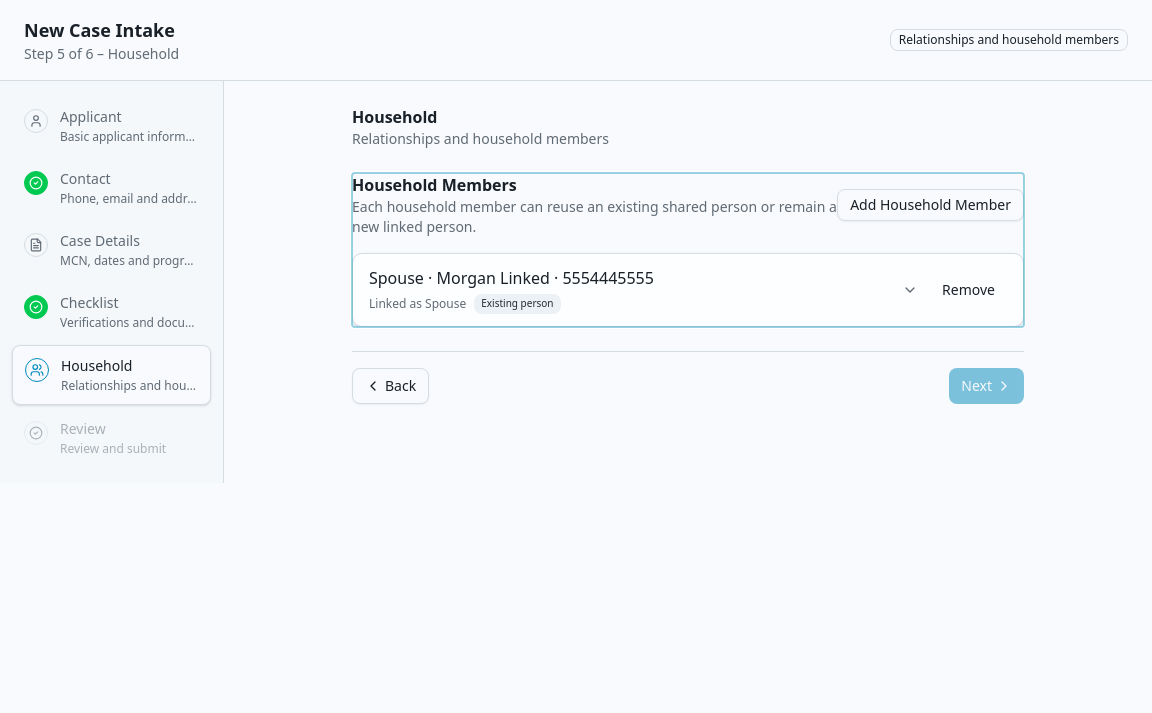
it: IntakeFormView › Household step › shows shared-person helper text for existing household links
The width and height of the screenshot is (1152, 713).
Click the button that starts with "Spouse · Morgan Linked · 5554445555" at (644, 290), box x1=369 y1=266 x2=918 y2=314
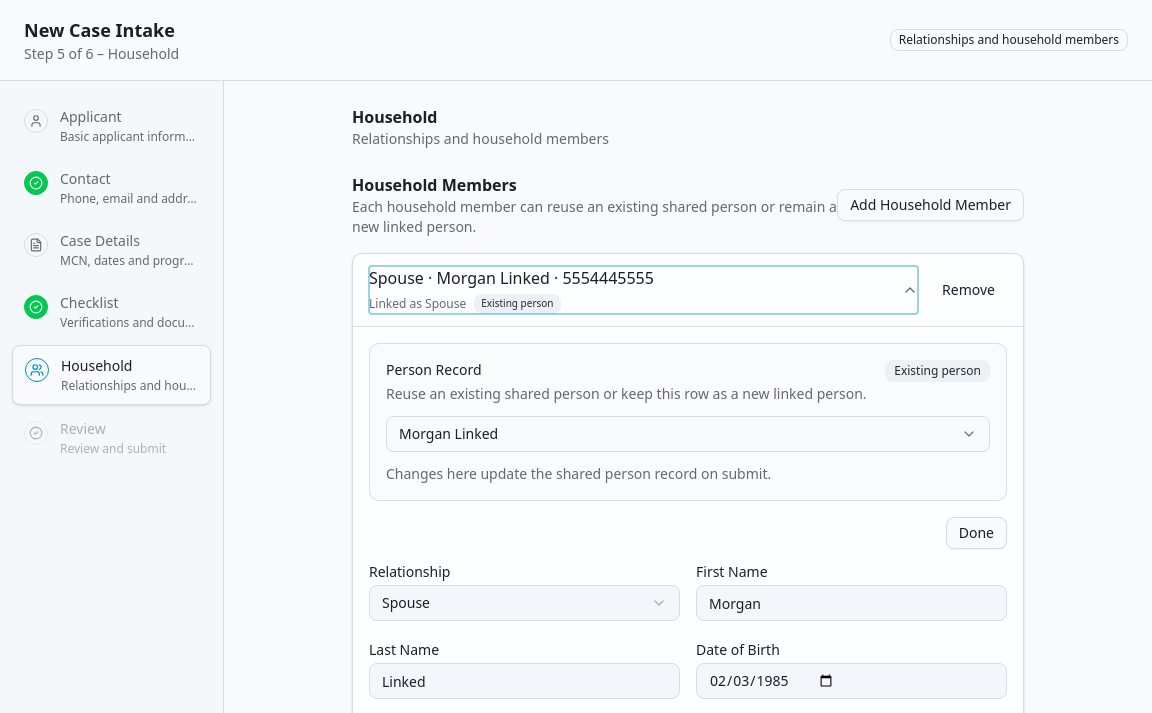
expect the text "Existing person" is shown 2 times: met, box x1=474 y1=294 x2=561 y2=314; x1=885 y1=360 x2=990 y2=382
expect the text "Changes here update the shared person record on submit." is shown: met, box x1=386 y1=464 x2=771 y2=483
